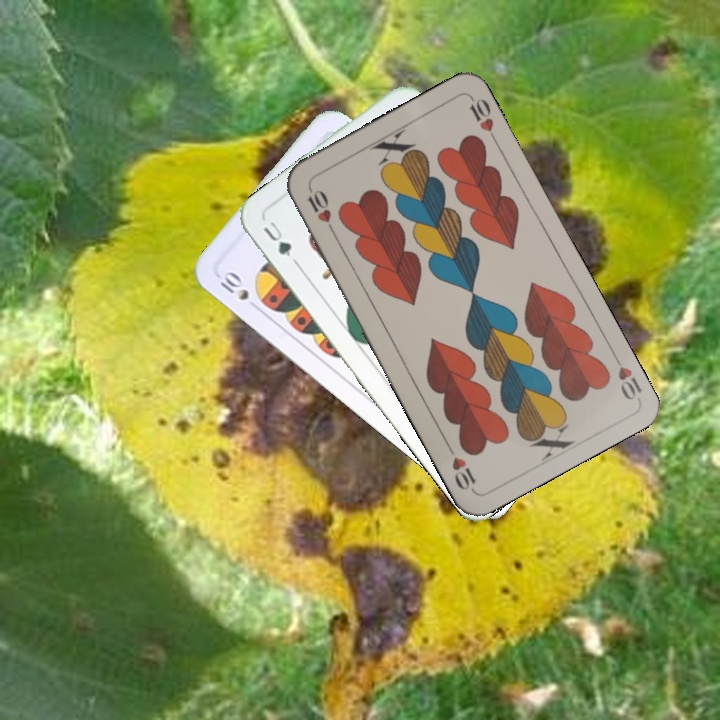GU: (259, 217, 300, 267)
H10: (607, 348, 644, 403), (303, 183, 338, 238)
S10: (213, 267, 263, 314)
